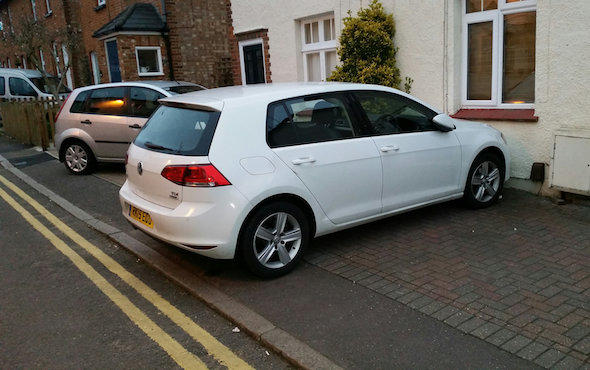car: (118, 81, 513, 254), (54, 79, 129, 163), (1, 65, 67, 122)
